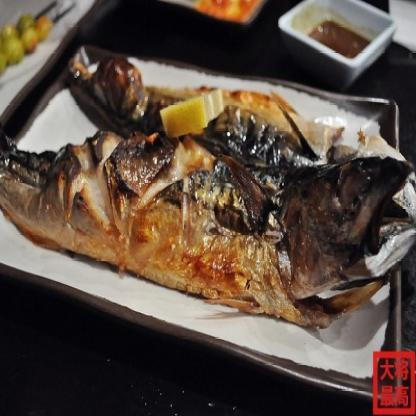Peixe: (0, 43, 416, 332)
